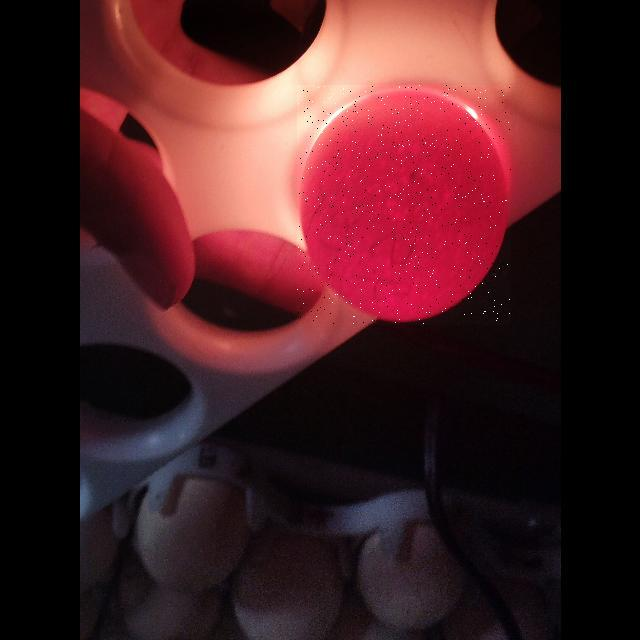Infertile: (297, 85, 511, 325)
